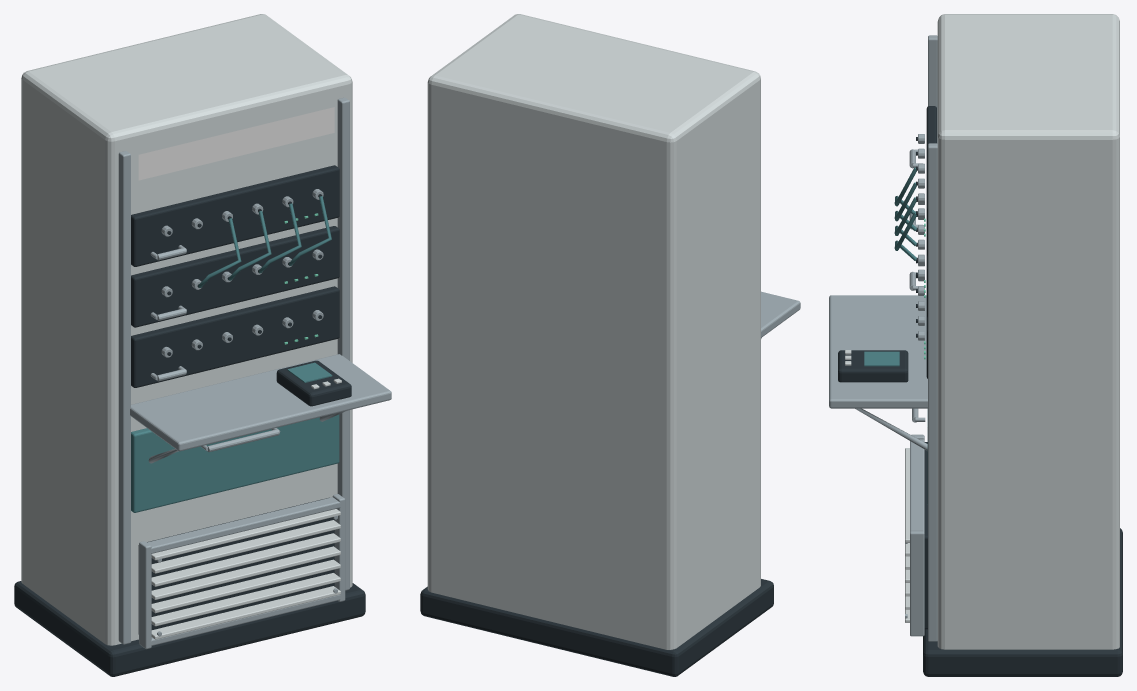
File: SR_AVServiceRack.fbx
3 renders of one model, left to right at view 1: azimuth 30°, elevation 25°; view 2: azimuth 150°, elevation 25°; view 3: azimuth 270°, elevation 25°, orthographic.
Visible parts, largest first — view 1: SR_AVServiceRack; view 2: SR_AVServiceRack; view 3: SR_AVServiceRack.
Part boxes in pixels (x1,y1,x2,y2): SR_AVServiceRack: [14, 14, 391, 676]; SR_AVServiceRack: [420, 14, 800, 676]; SR_AVServiceRack: [829, 14, 1122, 676].
Bounding box in the file's own units: 102 × 204 × 100.
